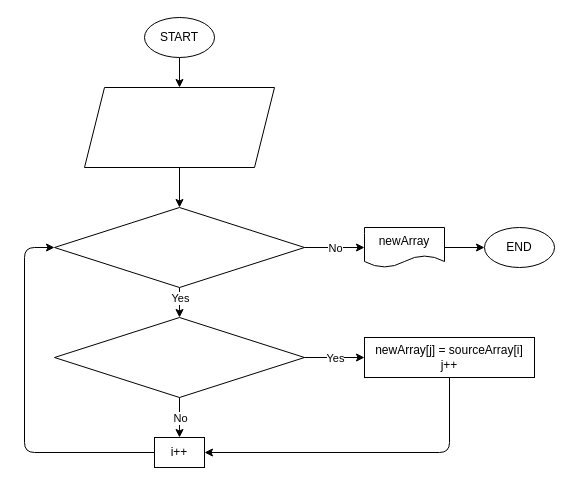
Some shapes in this 572 by 485 pixel diagram are drawn without their labels. The centre of each missing label's shape, as x and y in pixels:
"i < sourceArray[i].len ?" belongs at (179,247).
"sourceArray = {} newArray = {} maxLen = 3 i = 0 j = 0" belongs at (179,127).
"sourceArray[i].len <= maxLen?" belongs at (179,357).
